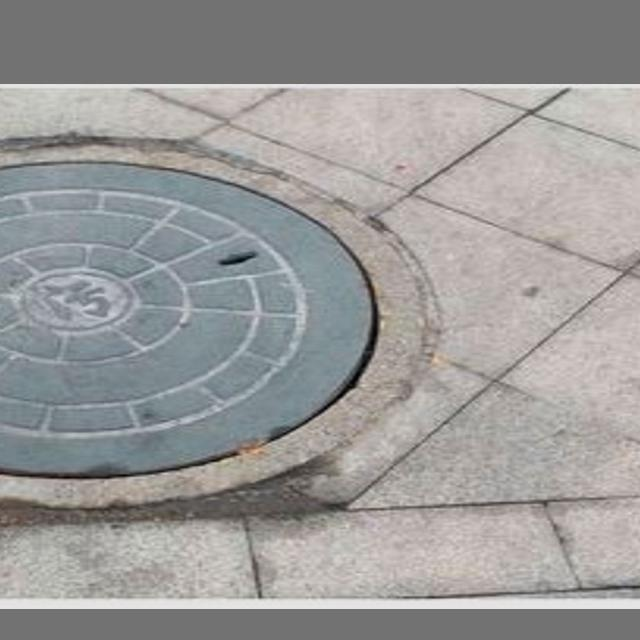good: (0, 117, 468, 529)
